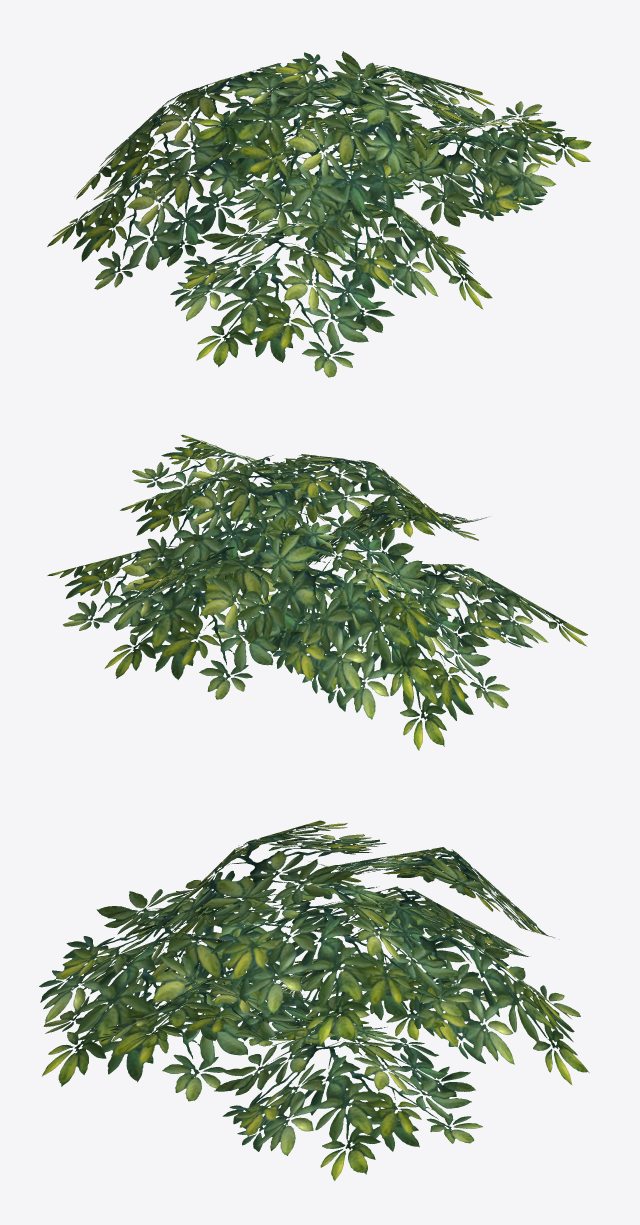
The model's file is wlf_cao05_w.FBX.
3 views of the same model, one above another, from view 1: azimuth 30°, elevation 25°; view 2: azimuth 150°, elevation 25°; view 3: azimuth 270°, elevation 25° (orthographic). The views are drawn at different scales.
Visible parts, largest first — view 1: wlf_cao05_w; view 2: wlf_cao05_w; view 3: wlf_cao05_w.
Part boxes in pixels (x1=…): wlf_cao05_w: x1=47, y1=51, x2=591, y2=377; wlf_cao05_w: x1=47, y1=435, x2=587, y2=750; wlf_cao05_w: x1=39, y1=820, x2=589, y2=1180.
Size of the model in its own units: 5724 by 2364 by 5052.
